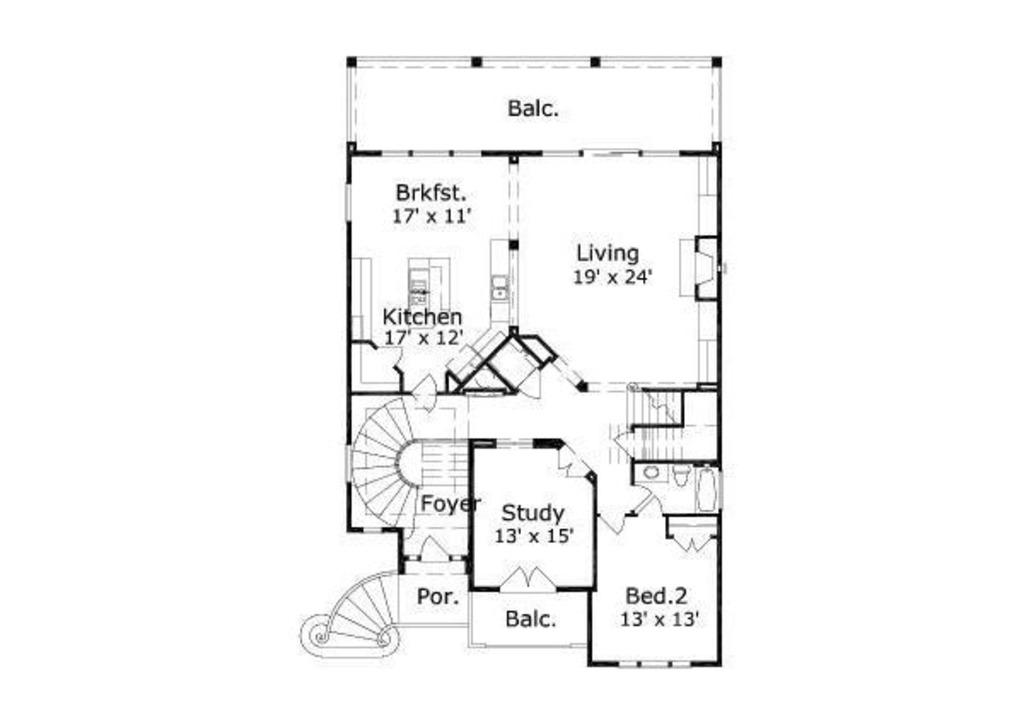door: (497, 564, 557, 592), (553, 450, 589, 484), (668, 530, 713, 552), (516, 373, 545, 403), (418, 536, 449, 564), (600, 512, 629, 535)
large_sink: (671, 458, 694, 491)
small_sink: (633, 462, 668, 486)
stairs: (350, 391, 423, 532), (296, 569, 404, 662)
tub: (695, 463, 720, 513)
twin_sink: (488, 274, 510, 305)
windows: (540, 143, 678, 163), (379, 146, 481, 160), (616, 656, 696, 673), (493, 435, 537, 451), (343, 178, 355, 225)
